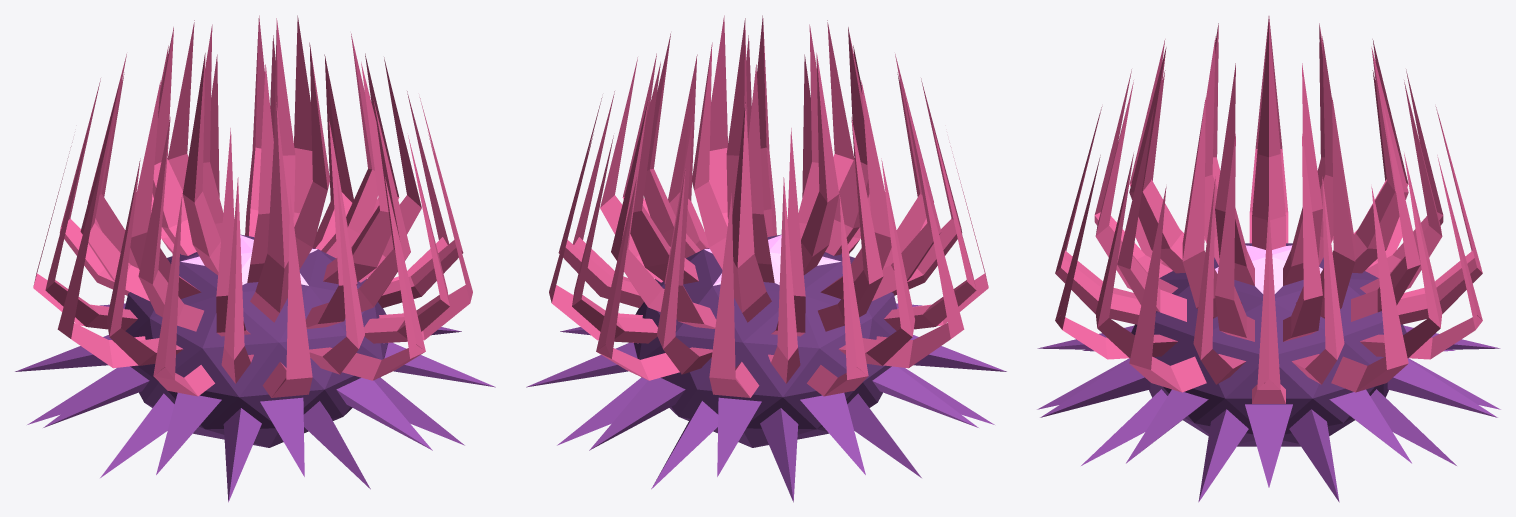
Rendered from AlienBush.fbx.
3 views of the same model, side by side, from view 1: azimuth 30°, elevation 25°; view 2: azimuth 150°, elevation 25°; view 3: azimuth 270°, elevation 25° (orthographic).
Visible parts, largest first — view 1: Icosphere; view 2: Icosphere; view 3: Icosphere.
Boxes of the visible parts, bbox=[...] form: Icosphere: bbox=[15, 15, 495, 502]; Icosphere: bbox=[526, 15, 1006, 502]; Icosphere: bbox=[1037, 16, 1500, 502].
Bounding box in the file's own units: 514 × 442 × 492.
